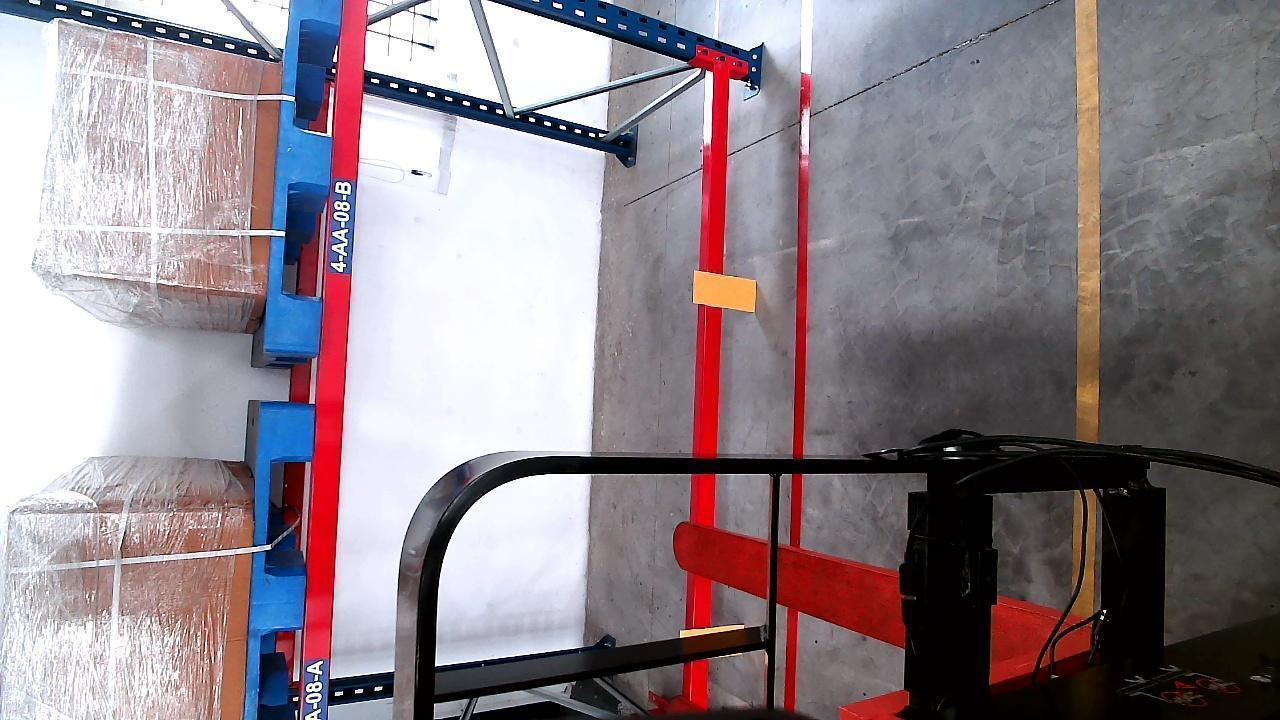red_line: (782, 42, 816, 710)
yellow_line: (1073, 0, 1103, 614)
